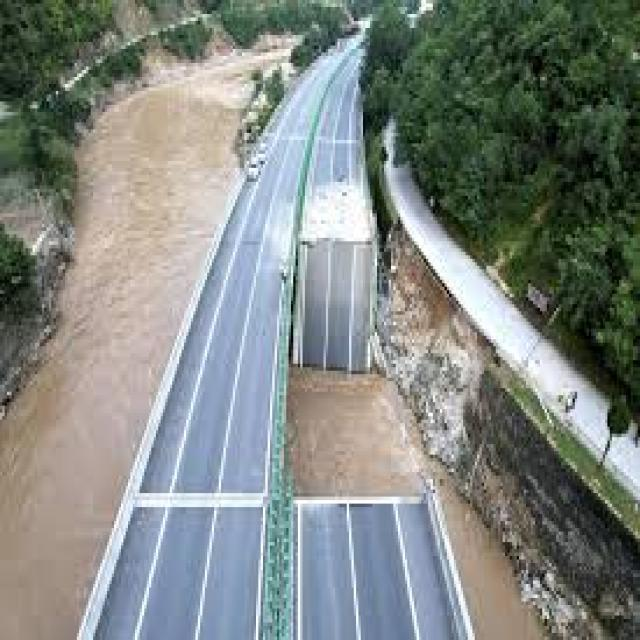bridge collapse: (257, 163, 493, 556)
